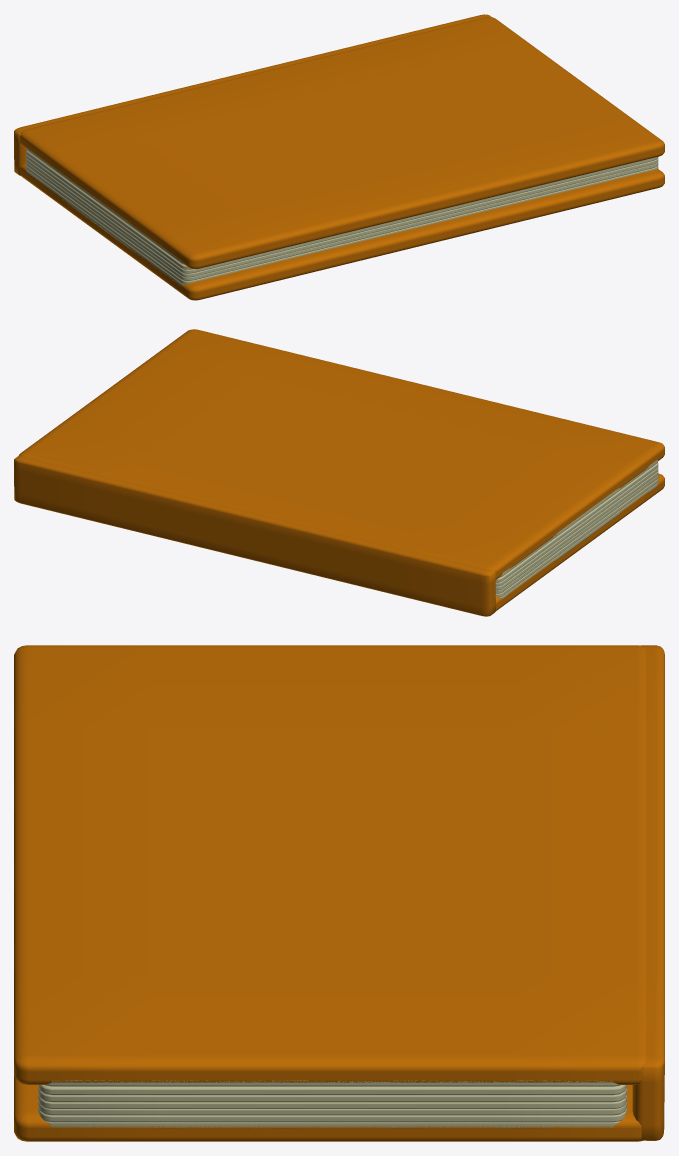
The model's file is book6.FBX.
The picture shows the model from 3 angles, top to bottom: view 1: azimuth 30°, elevation 25°; view 2: azimuth 150°, elevation 25°; view 3: azimuth 270°, elevation 25°; orthographic projection. The views are drawn at different scales.
Visible parts, largest first — view 1: ChamferBox003, ChamferBox002, ChamferBox006, ChamferBox007, ChamferBox009, ChamferBox001, ChamferBox005, ChamferBox008, ChamferBox004, ChamferBox010; view 2: ChamferBox003, ChamferBox001, ChamferBox002, ChamferBox008, ChamferBox009, ChamferBox006, ChamferBox005, ChamferBox007, ChamferBox004, ChamferBox010; view 3: ChamferBox003, ChamferBox002, ChamferBox001, ChamferBox008, ChamferBox009, ChamferBox005, ChamferBox006, ChamferBox007, ChamferBox004, ChamferBox010.
Boxes of the visible parts, x1,y1,x2,y2 form: ChamferBox003: [20, 17, 664, 269]; ChamferBox002: [20, 164, 664, 300]; ChamferBox006: [26, 158, 658, 277]; ChamferBox007: [26, 162, 658, 280]; ChamferBox009: [26, 154, 658, 273]; ChamferBox001: [14, 14, 491, 175]; ChamferBox005: [26, 165, 658, 284]; ChamferBox008: [26, 150, 193, 269]; ChamferBox004: [26, 169, 184, 285]; ChamferBox010: [26, 148, 184, 264]; ChamferBox003: [19, 329, 664, 579]; ChamferBox001: [14, 455, 495, 616]; ChamferBox002: [495, 473, 664, 610]; ChamferBox008: [495, 463, 658, 582]; ChamferBox009: [495, 467, 658, 586]; ChamferBox006: [495, 470, 658, 590]; ChamferBox005: [495, 478, 658, 597]; ChamferBox007: [495, 474, 658, 593]; ChamferBox004: [499, 482, 657, 599]; ChamferBox010: [499, 460, 658, 577]; ChamferBox003: [14, 645, 645, 1084]; ChamferBox002: [14, 1075, 642, 1141]; ChamferBox001: [632, 645, 664, 1140]; ChamferBox008: [38, 1085, 626, 1095]; ChamferBox009: [38, 1087, 626, 1102]; ChamferBox005: [38, 1108, 626, 1122]; ChamferBox006: [38, 1095, 626, 1108]; ChamferBox007: [38, 1102, 626, 1115]; ChamferBox004: [45, 1121, 619, 1128]; ChamferBox010: [45, 1080, 620, 1086].
Size of the model in its own units: 28.04 by 2.59 by 18.27.
